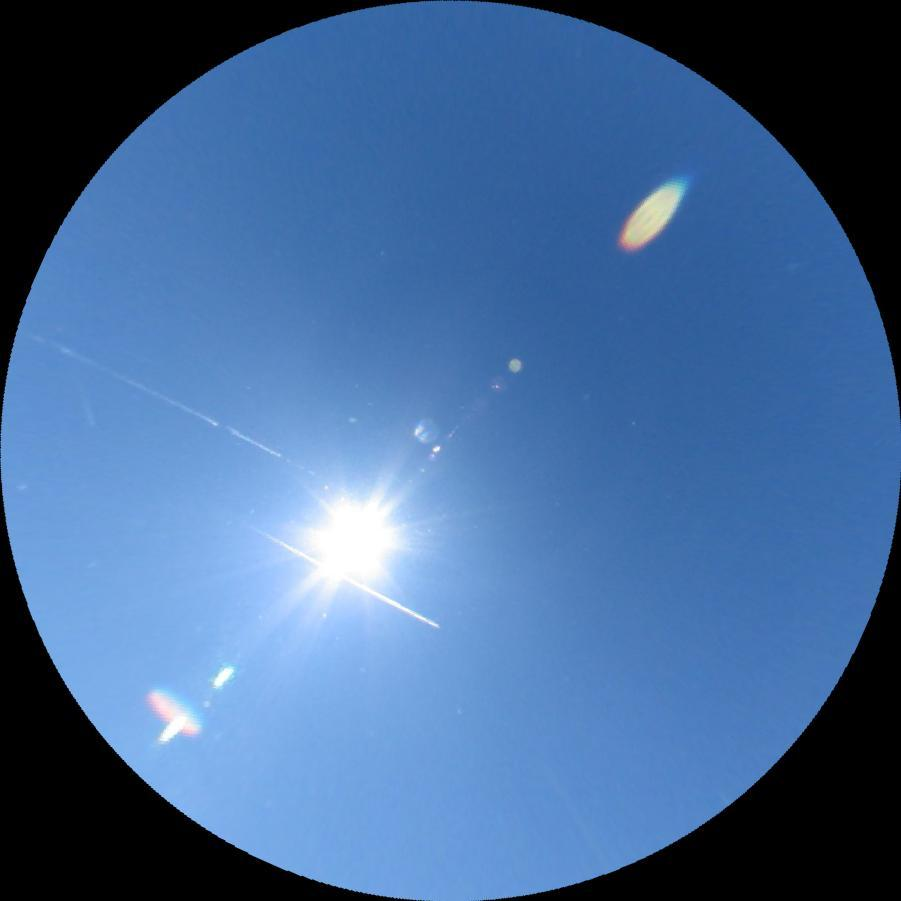contrail young: (245, 523, 439, 633), (80, 392, 96, 426)
parasite: (22, 325, 316, 475)
sun: (299, 478, 409, 587)
